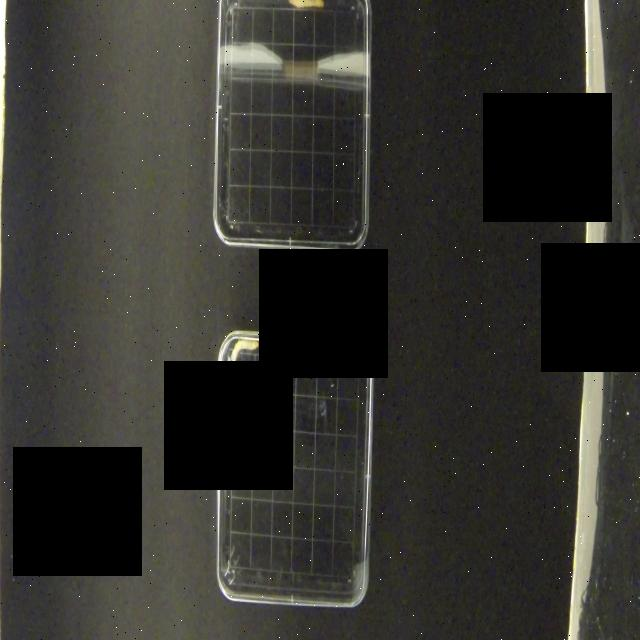larva: (230, 340, 260, 362), (289, 0, 325, 10)
